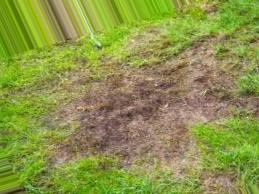patch: (73, 75, 187, 158), (194, 60, 233, 116), (187, 40, 212, 58), (155, 60, 189, 71), (206, 172, 230, 187)
